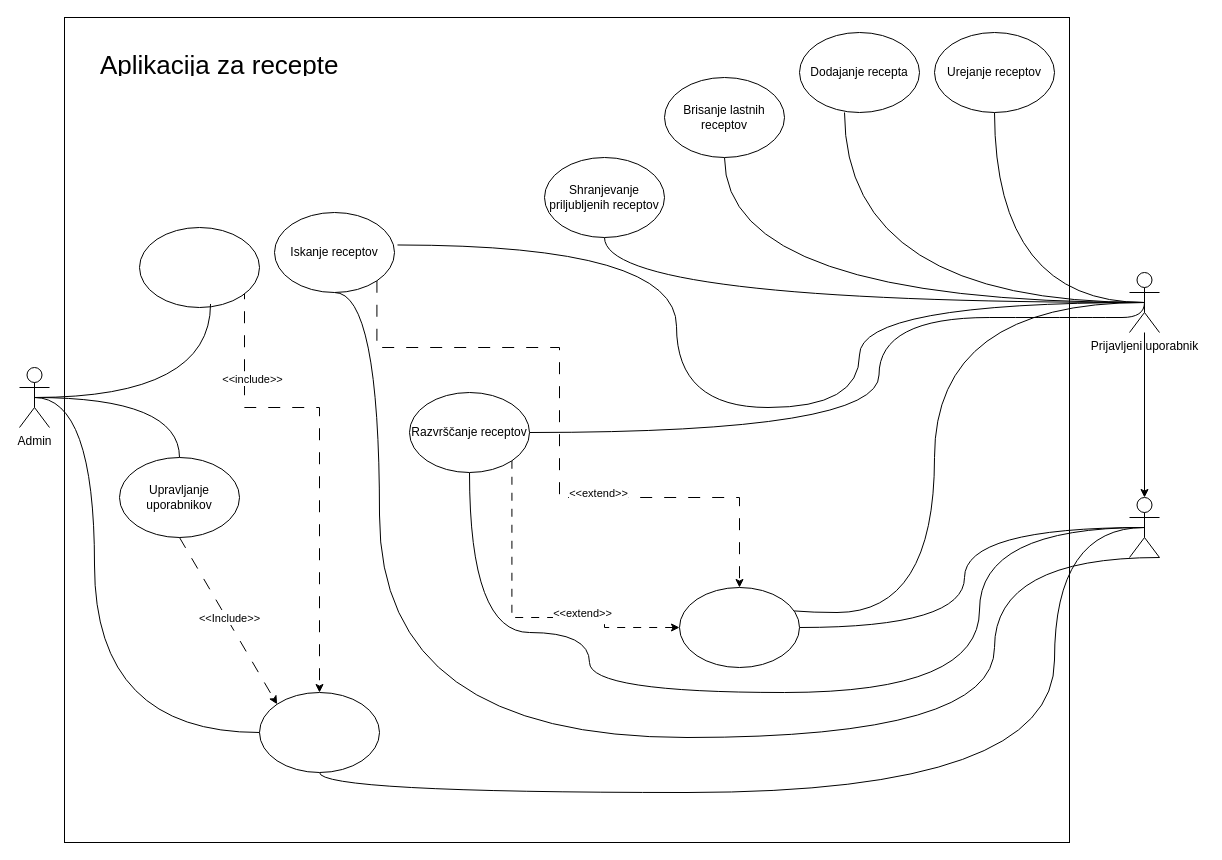
The diagram is 1222 pixels wide and 860 high, and some of its shapes have lost their labels. Here are the shapes that lost their labels. From the top down, the centre of each, then its label:
At point (199, 267): "Upravljanje receptov".
At point (1144, 527): "Neprijavljeni uporabnik".
At point (739, 627): "Pregled receptov".
At point (319, 732): "Prijava".
